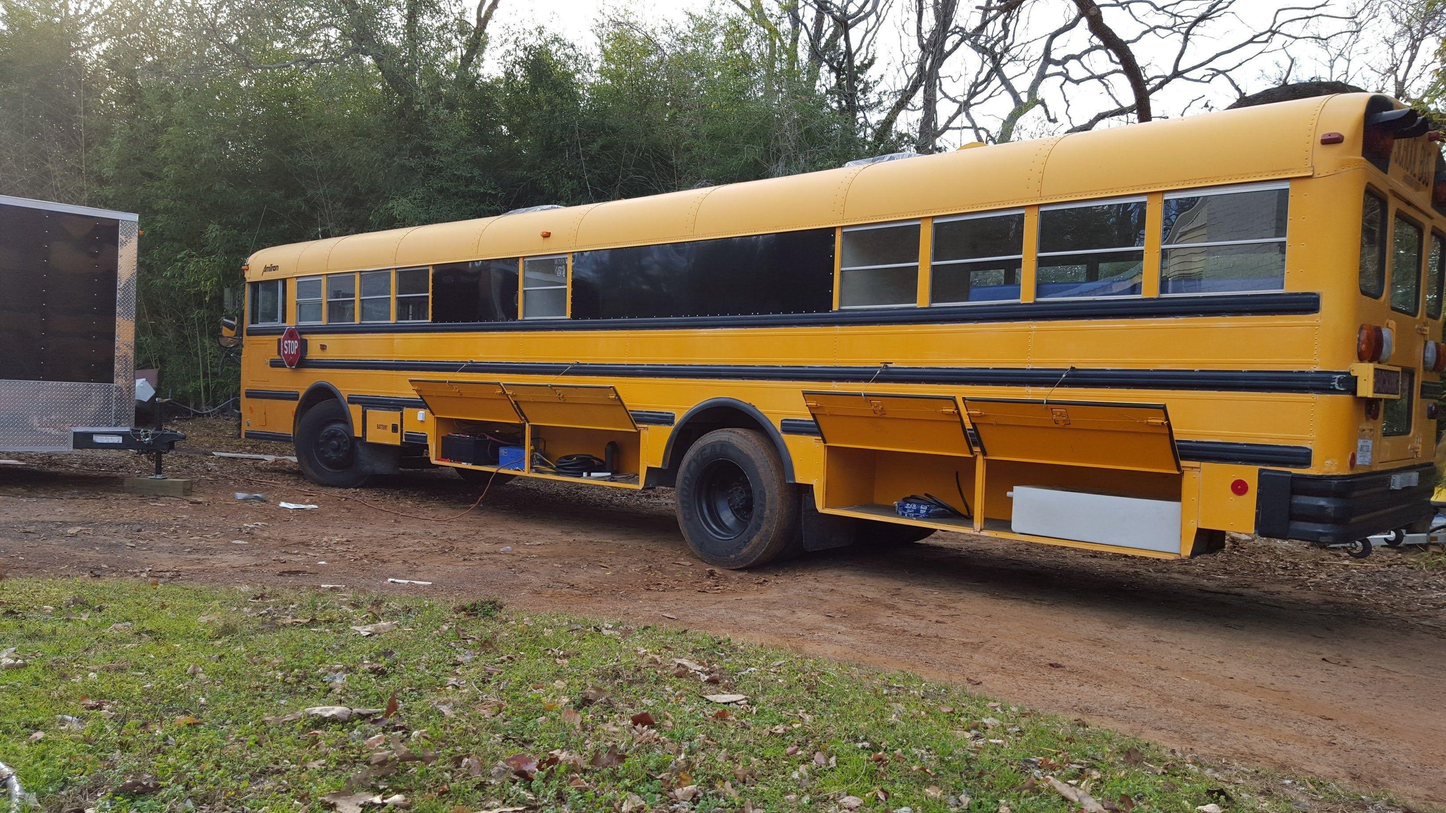Bus: (235, 93, 1446, 572)
